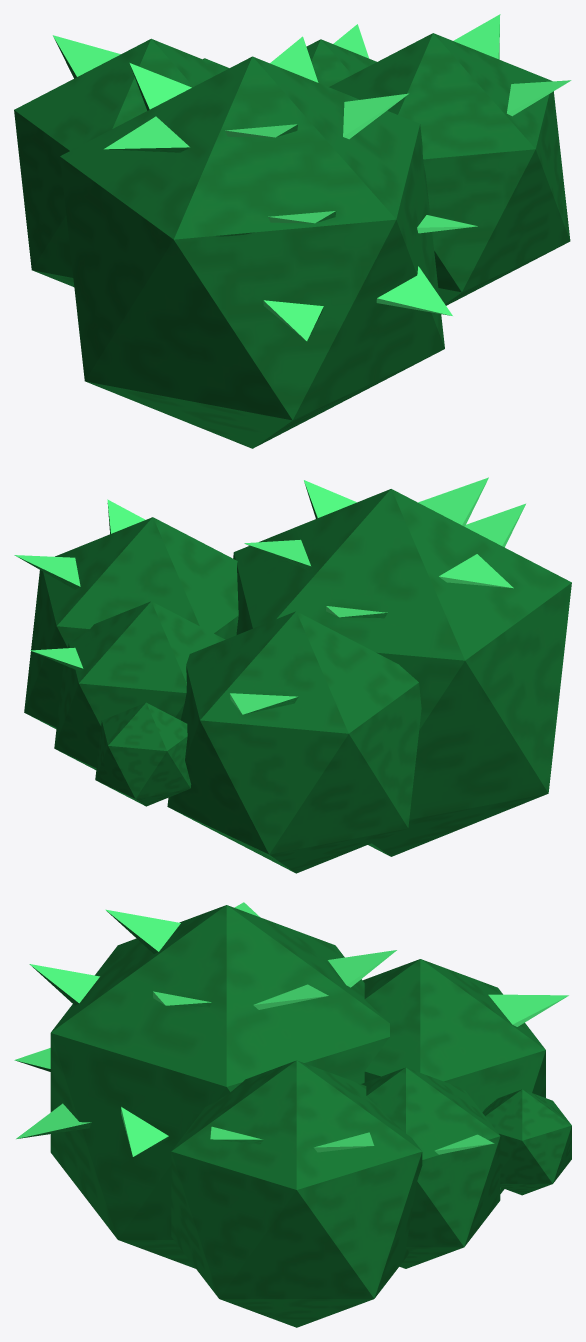
The model's file is moss.fbx.
The picture shows the model from 3 angles, top to bottom: view 1: azimuth 30°, elevation 25°; view 2: azimuth 150°, elevation 25°; view 3: azimuth 270°, elevation 25°; orthographic projection. The views are drawn at different scales.
Parts seen in each view (by area): view 1: Cube.012; view 2: Cube.012; view 3: Cube.012.
Boxes of the visible parts, x1,y1,x2,y2 form: Cube.012: [14, 14, 571, 448]; Cube.012: [14, 477, 571, 873]; Cube.012: [14, 902, 571, 1327].
Bounding box in the file's own units: 842 × 626 × 843.
Materials: 1 (1 with a texture image).
